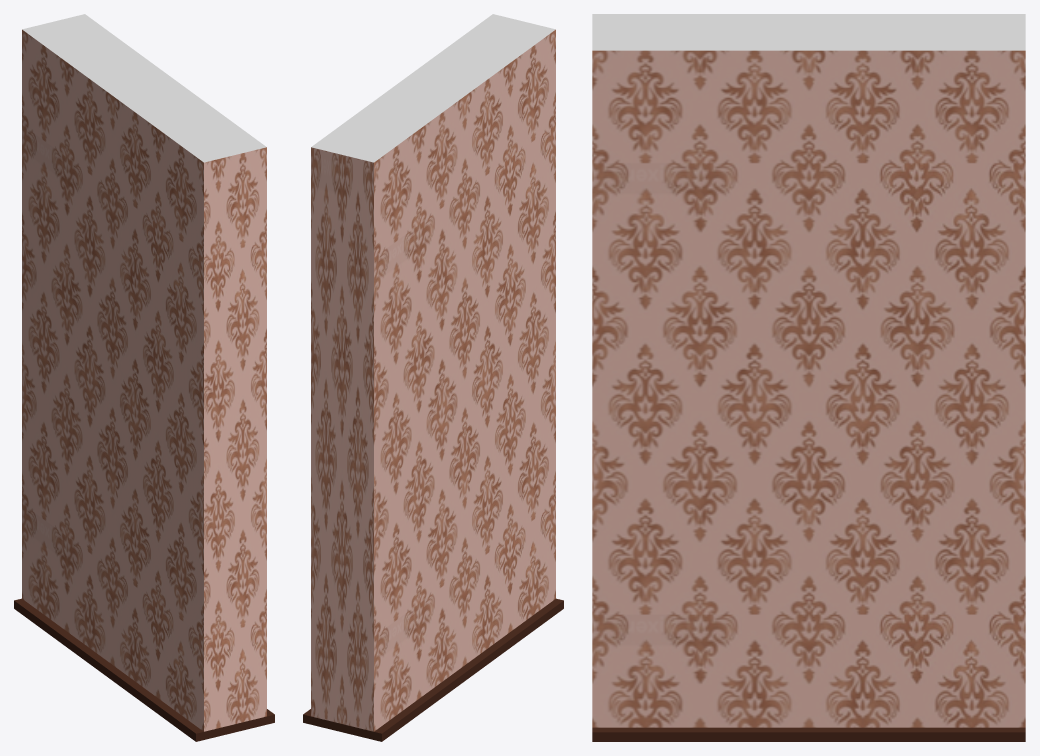
The model's file is wall.fbx.
3 renders of one model, left to right at view 1: azimuth 30°, elevation 25°; view 2: azimuth 150°, elevation 25°; view 3: azimuth 270°, elevation 25°, orthographic. The views are drawn at different scales.
Visible parts, largest first — view 1: wall; view 2: wall; view 3: wall.
Part boxes in pixels (left/top/right/bottom): wall: left=14, top=14, right=274, bottom=741; wall: left=303, top=14, right=563, bottom=741; wall: left=592, top=14, right=1025, bottom=741.
Size of the model in its own units: 100 by 700 by 400.
